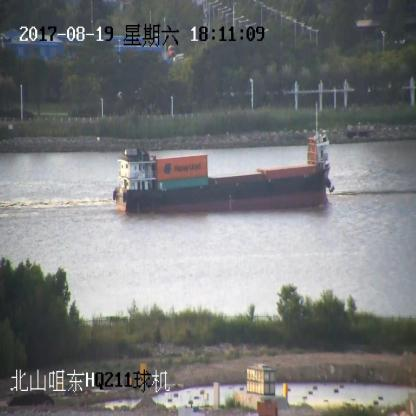Container Ship: (113, 118, 334, 214)
